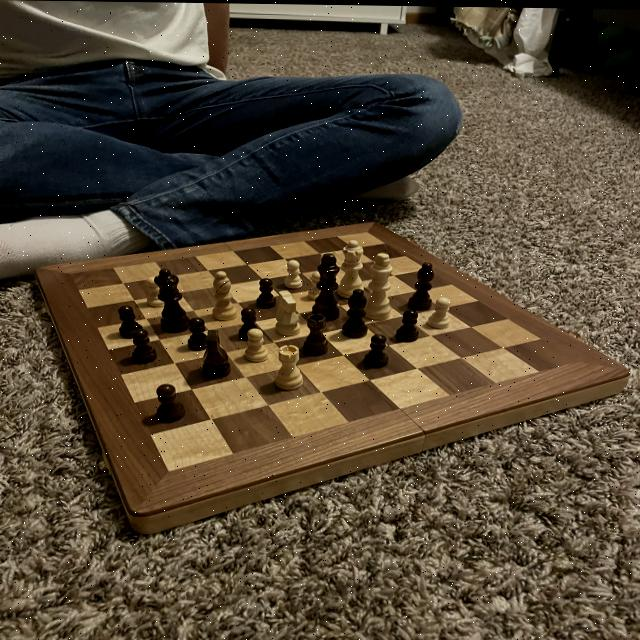bishop: (404, 258, 436, 311), (339, 286, 371, 339)
black-bishop: (311, 251, 344, 322)
black-king: (200, 327, 235, 379)
black-knight: (152, 381, 188, 427), (128, 326, 162, 368), (114, 302, 147, 341), (394, 307, 423, 344), (363, 332, 391, 369), (186, 314, 212, 352), (253, 275, 279, 310), (239, 306, 262, 341)
black-pawn: (154, 267, 194, 336)
black-queen: (299, 312, 331, 358)
black-rook: (210, 267, 240, 323)
white-bishop: (361, 250, 395, 321)
white-king: (271, 287, 303, 338)
white-knight: (243, 326, 272, 364), (144, 274, 172, 310), (424, 294, 452, 329), (282, 256, 305, 289), (307, 269, 324, 300), (320, 251, 334, 280)
white-pawn: (336, 237, 366, 298)
white-queen: (272, 341, 305, 392)
